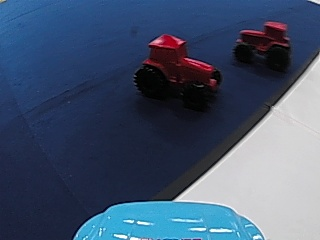tractor: (132, 30, 223, 107), (232, 18, 291, 71)
